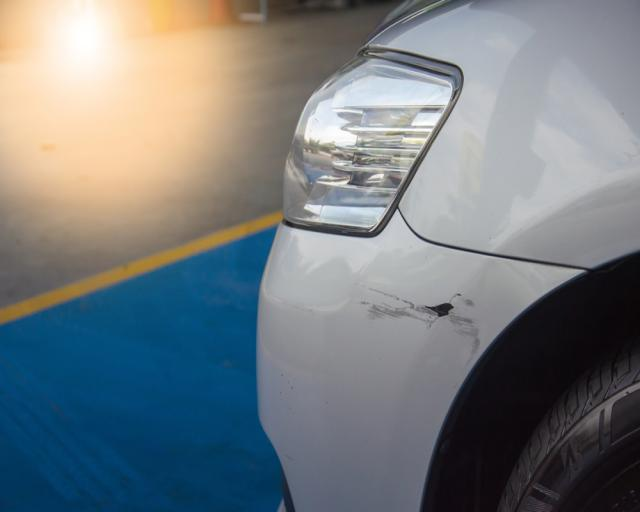scratch: (362, 284, 478, 368)
